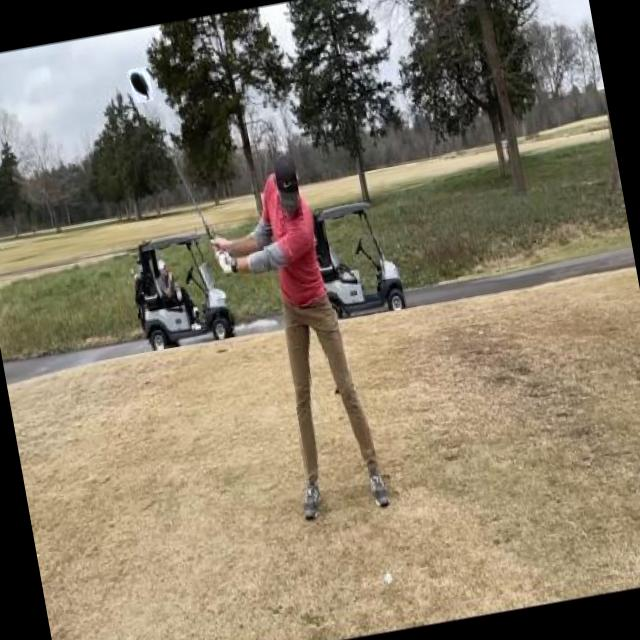club head: (128, 66, 154, 103)
